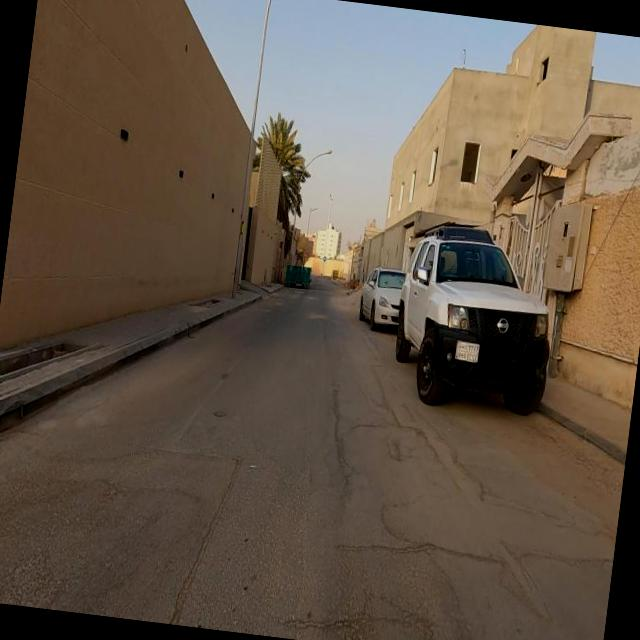debris: (252, 231, 342, 325), (328, 250, 379, 328)
